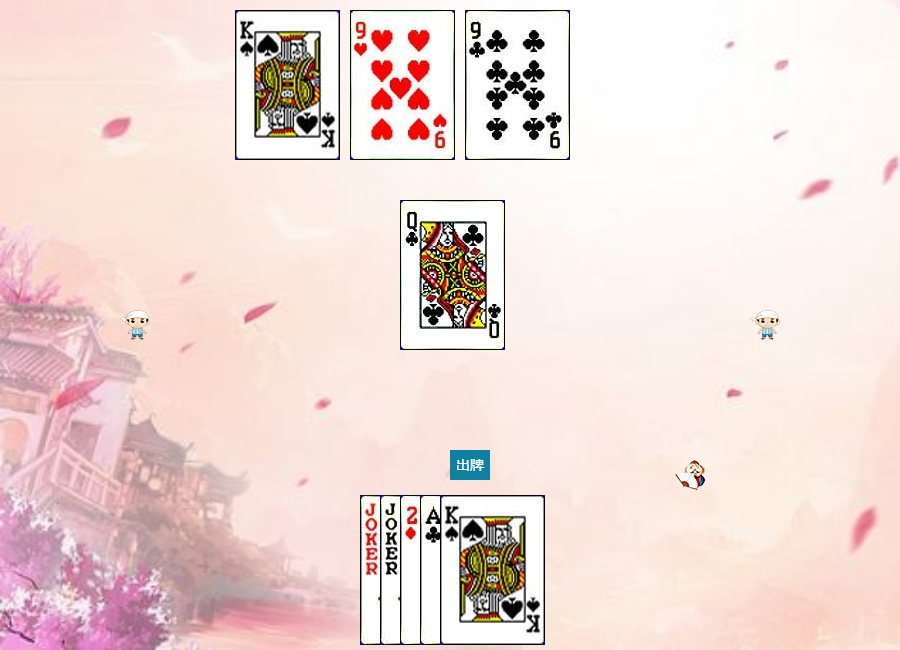12~2: (400, 200, 505, 350)
13~4: (235, 10, 340, 160), (440, 495, 545, 645)
14~2: (420, 495, 525, 645)
15~1: (400, 495, 505, 645)
17~3: (380, 495, 485, 645)
18~4: (360, 495, 465, 645)
9~2: (465, 10, 570, 160)
9~3: (350, 10, 455, 160)
